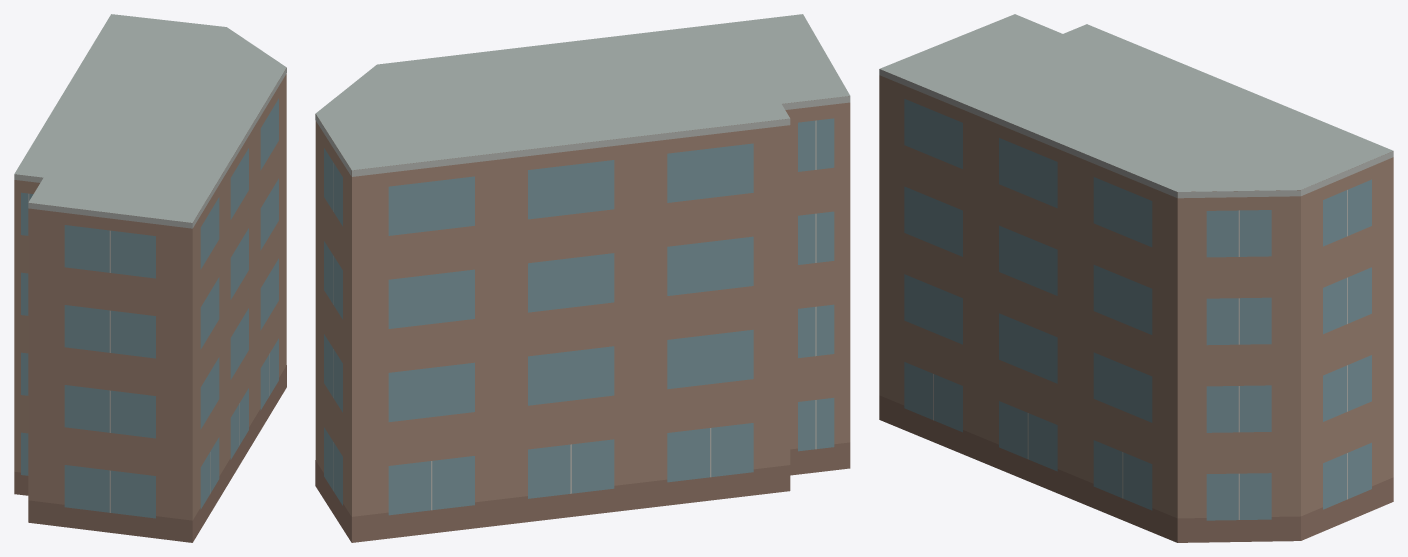
The model's file is survey-upis-32702503.glb.
The picture shows the model from 3 angles, left to right: view 1: azimuth 30°, elevation 25°; view 2: azimuth 150°, elevation 25°; view 3: azimuth 270°, elevation 25°; orthographic projection. The views are drawn at different scales.
Visible parts, largest first — view 1: survey-upis-32702503.tmp; view 2: survey-upis-32702503.tmp; view 3: survey-upis-32702503.tmp.
Boxes of the visible parts, left/top/right/bottom form: survey-upis-32702503.tmp: left=14, top=14, right=286, bottom=542; survey-upis-32702503.tmp: left=315, top=14, right=850, bottom=542; survey-upis-32702503.tmp: left=879, top=14, right=1393, bottom=542.
Bounding box in the file's own units: 14.91 × 13.7 × 18.21.
